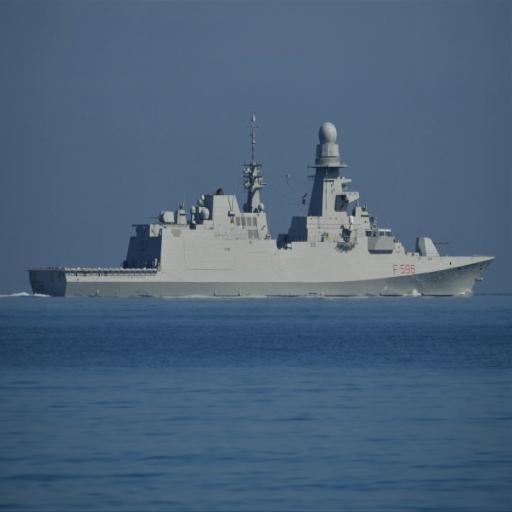Fragata: (28, 113, 500, 301)
